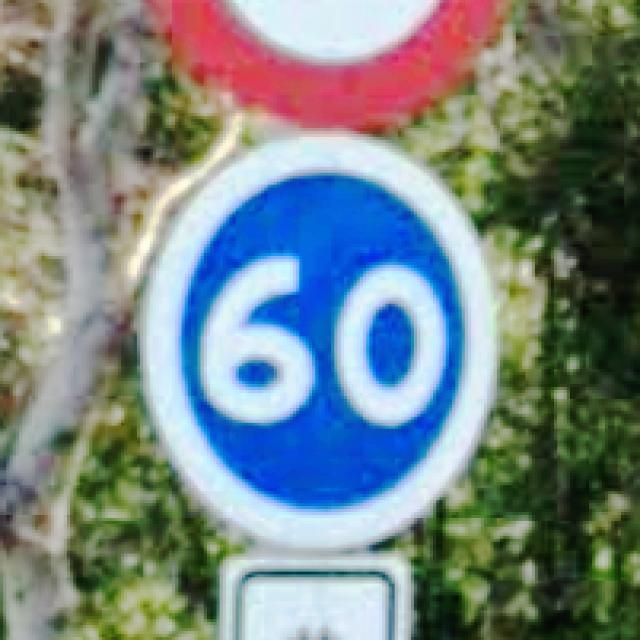min60: (130, 128, 500, 548)
